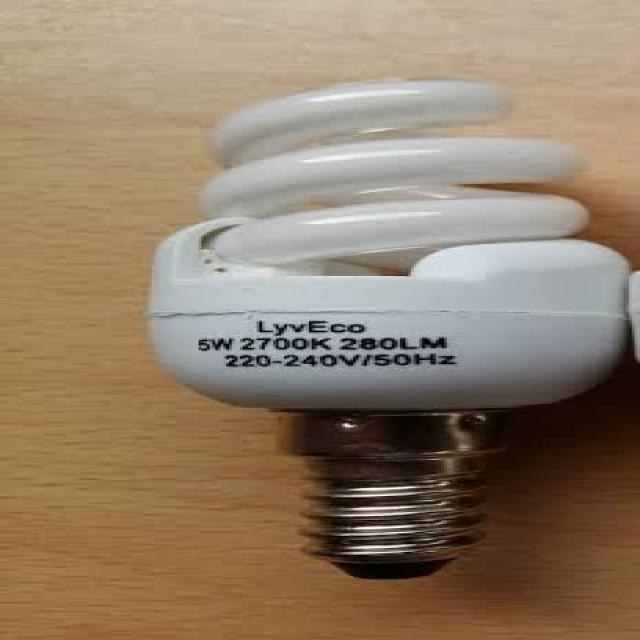bulb: (168, 0, 639, 609)
